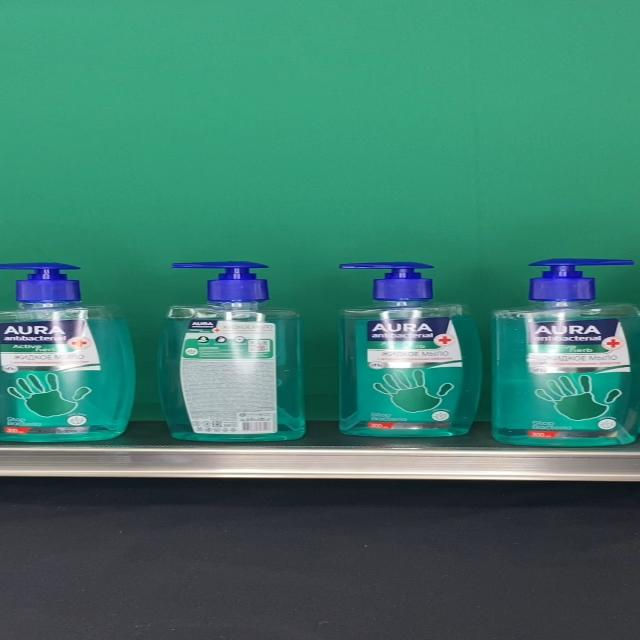Bottle: (489, 256, 640, 447), (154, 261, 307, 442), (339, 261, 481, 437), (0, 263, 137, 442)
Cap: (530, 256, 636, 302), (172, 261, 270, 303), (338, 261, 434, 301), (0, 262, 82, 302)
